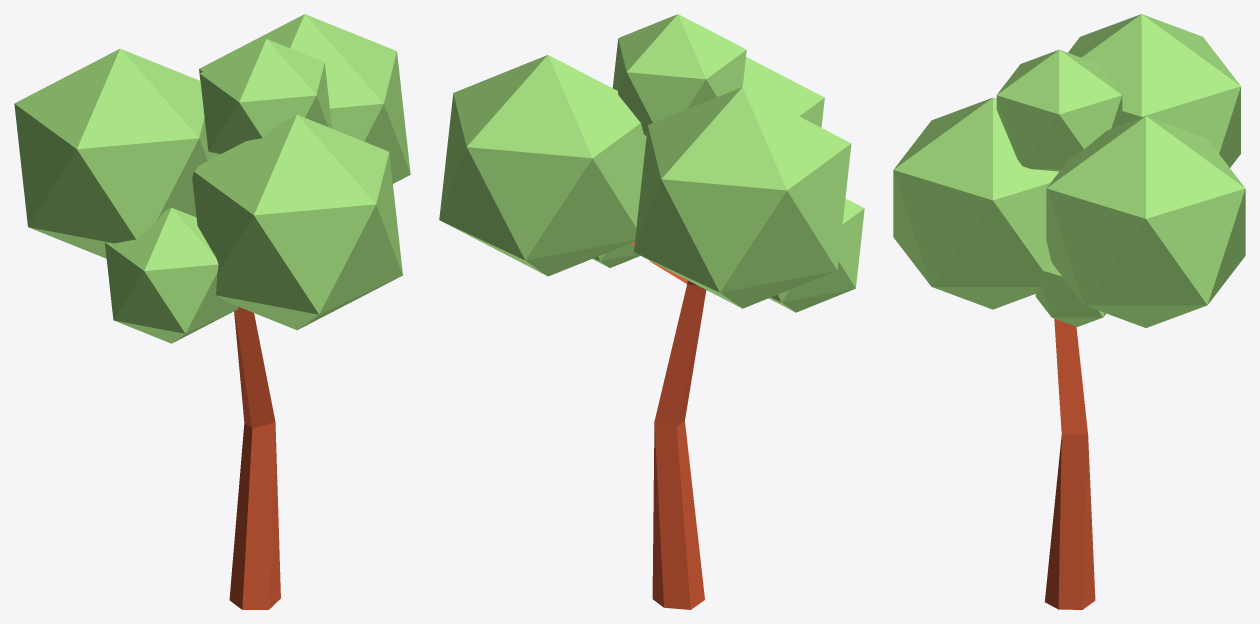
File: Mahogany Tree.fbx
The picture shows the model from 3 angles, left to right: view 1: azimuth 30°, elevation 25°; view 2: azimuth 150°, elevation 25°; view 3: azimuth 270°, elevation 25°; orthographic projection. The views are drawn at different scales.
Parts seen in each view (by area): view 1: Mahogany; view 2: Mahogany; view 3: Mahogany.
Part boxes in pixels (box(x1,y1,x2,y2)): Mahogany: box(14, 14, 410, 609); Mahogany: box(439, 14, 864, 609); Mahogany: box(893, 14, 1245, 609).
Size of the model in its own units: 3184 by 2660 by 4626.
